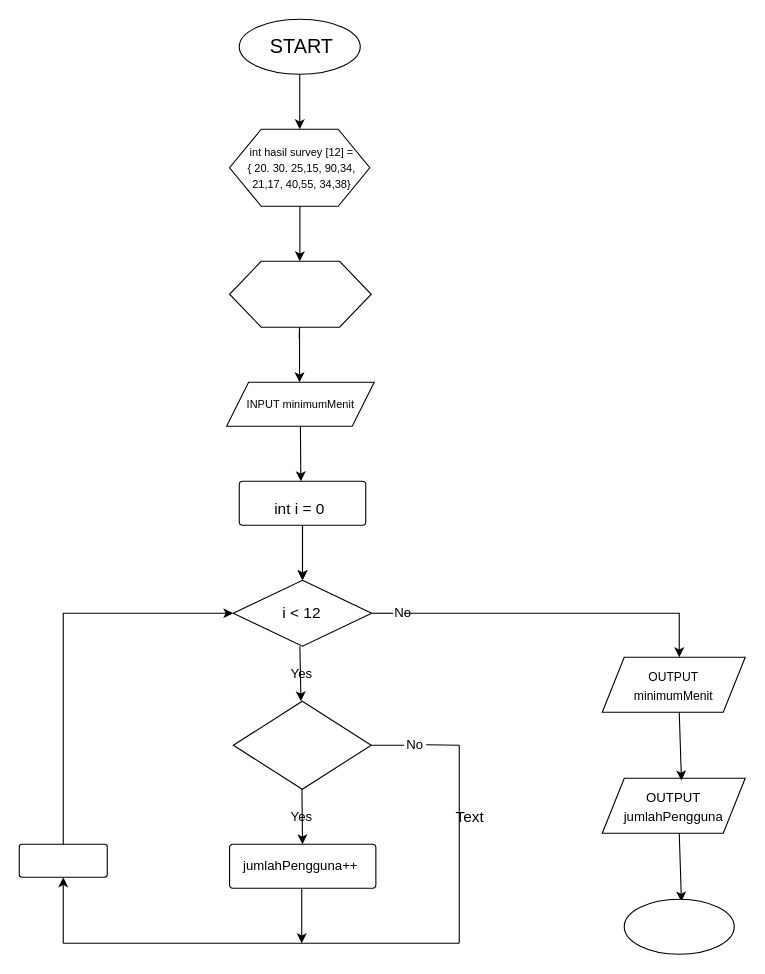
This 765x974 diagram has some shape labels left out. Each missing label, with the box of its shape:
END: (623, 898, 734, 954)
hasilSurvey[i] >minimumMenit: (232, 700, 371, 789)
int minimumMenit = 0 int jumlahPengguna = 0: (228, 260, 371, 327)
j++: (18, 843, 107, 877)
